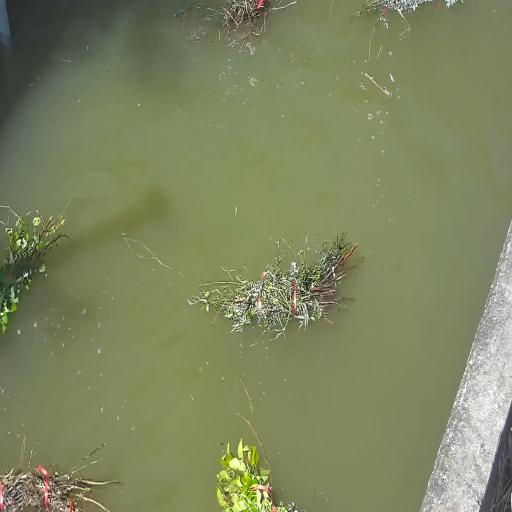twig: (187, 228, 359, 323), (212, 435, 332, 512), (0, 194, 64, 330), (0, 445, 107, 512), (208, 0, 305, 49), (361, 0, 468, 19)
